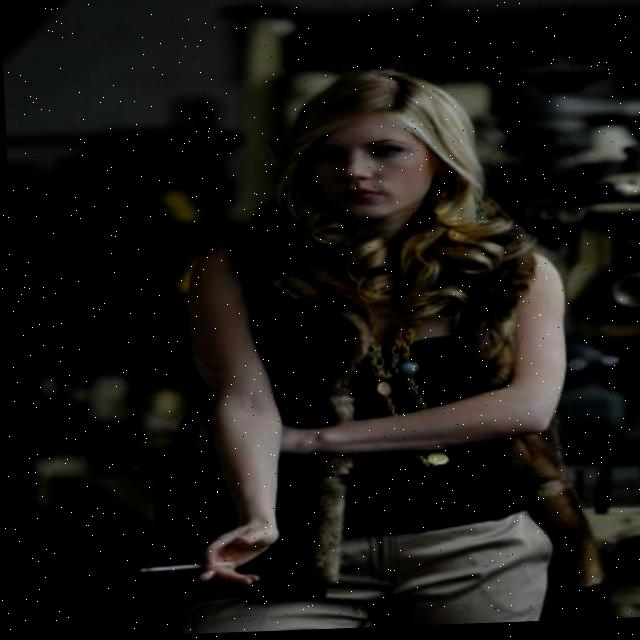cigarette: (132, 564, 226, 575)
